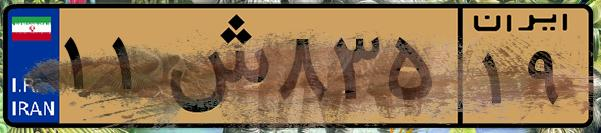1: (57, 26, 110, 100), (475, 38, 525, 113), (110, 28, 158, 98)
3: (330, 28, 385, 110)
5: (385, 28, 445, 110)
8: (270, 28, 330, 110)
9: (525, 38, 570, 115)
ش: (158, 12, 270, 120)
